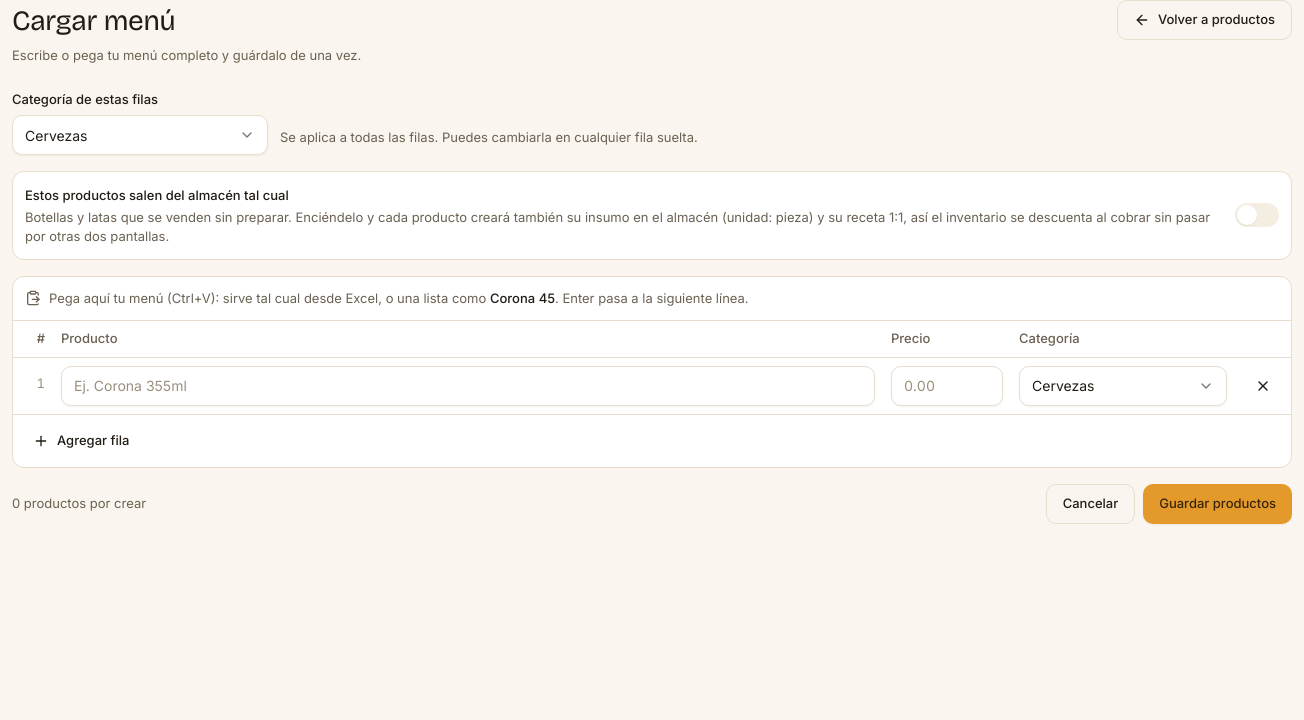
it: CargarMenuPage › Enter agrega una fila nueva y le da el foco, en vez de enviar el formulario
This screenshot has width=1304, height=720.
Type "Corona" into the field named "nombre del producto 1".
click(468, 386); type("Corona")  # box [61,366,875,406]
Then press Enter
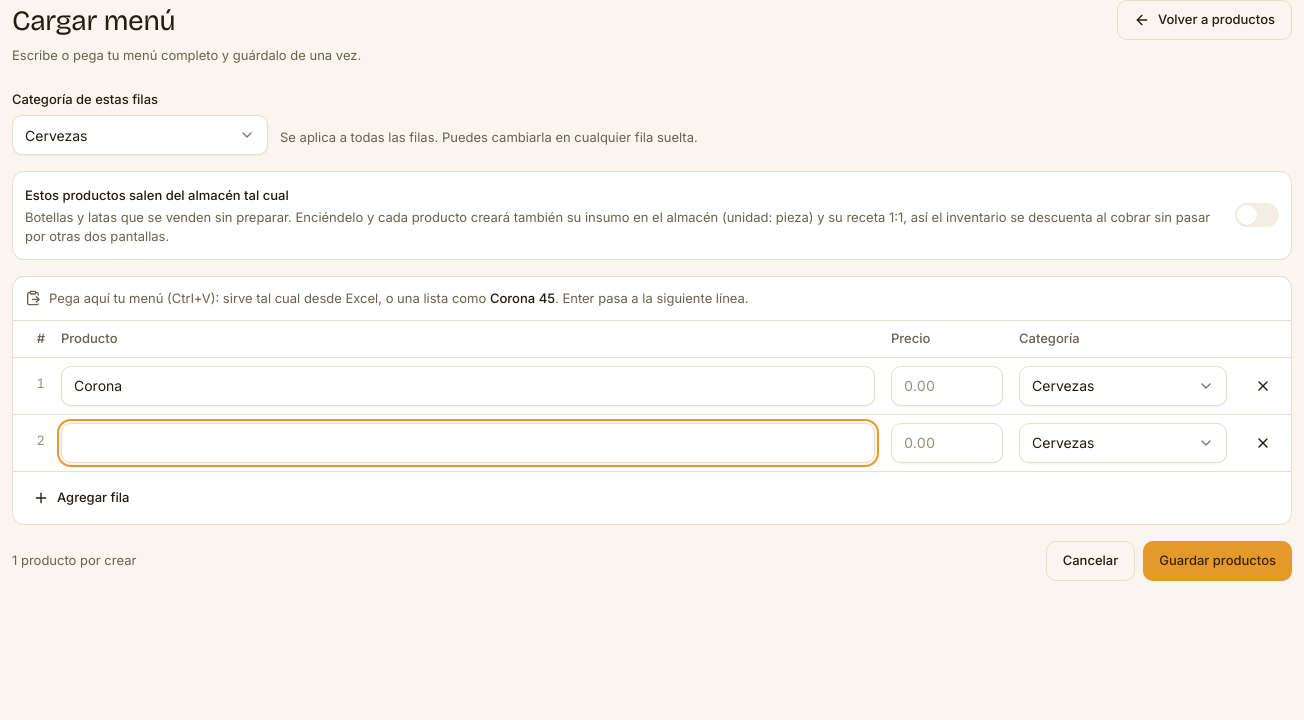
Expected: the field named "nombre del producto 2" is shown, [61,422,875,462]
